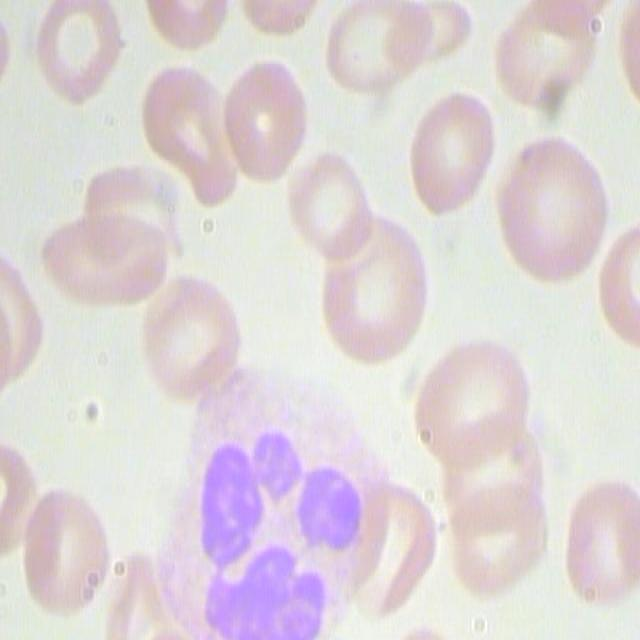RBC: (488, 130, 615, 290), (408, 324, 535, 471), (319, 208, 424, 369), (137, 58, 237, 210), (137, 266, 244, 402), (34, 207, 167, 310), (402, 89, 501, 223), (15, 485, 116, 611), (221, 52, 308, 189), (318, 0, 431, 104), (565, 463, 639, 616), (287, 139, 369, 265), (35, 0, 120, 113)
WBC: (161, 364, 398, 639)
